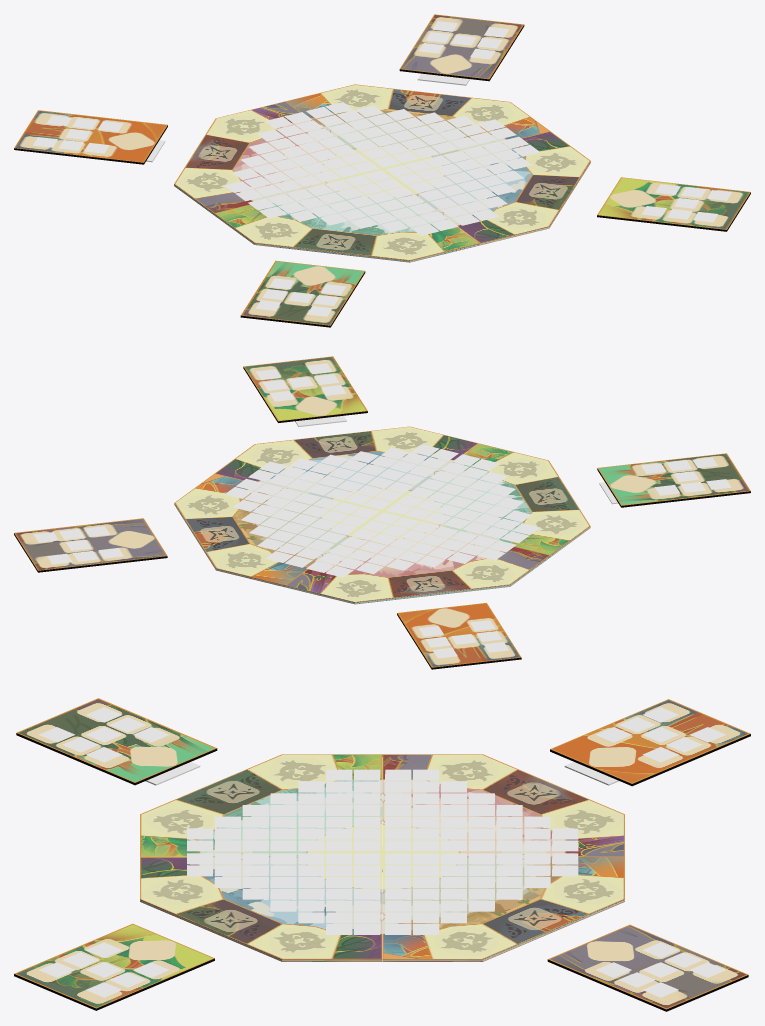
File: game.gltf
The picture shows the model from 3 angles, top to bottom: view 1: azimuth 30°, elevation 25°; view 2: azimuth 150°, elevation 25°; view 3: azimuth 270°, elevation 25°; orthographic projection. The views are drawn at different scales.
Parts seen in each view (by area): view 1: biome_slice_12, biome_slice_4, biome_slice_2, biome_slice_3, Sigil_slot_3, Sigil_slot_1, Sigil_slot_2, Sigil_slot_4; view 2: biome_slice_2, biome_slice_3, biome_slice_12, biome_slice_4, Sigil_slot_4, Sigil_slot_2, Sigil_slot_1, Sigil_slot_3; view 3: biome_slice_4, biome_slice_3, biome_slice_12, biome_slice_2, Sigil_slot_2, Sigil_slot_1, Sigil_slot_4, Sigil_slot_3.
Boxes of the visible parts, x1,y1,x2,y2 form: biome_slice_12: [214, 176, 479, 262]; biome_slice_4: [384, 131, 590, 245]; biome_slice_2: [174, 101, 379, 214]; biome_slice_3: [286, 84, 550, 171]; Sigil_slot_3: [14, 110, 167, 164]; Sigil_slot_1: [597, 177, 750, 231]; Sigil_slot_2: [399, 14, 524, 81]; Sigil_slot_4: [240, 260, 365, 327]; biome_slice_2: [285, 518, 550, 604]; biome_slice_3: [174, 473, 380, 587]; biome_slice_12: [385, 443, 590, 557]; biome_slice_4: [215, 426, 478, 513]; Sigil_slot_4: [597, 453, 750, 507]; Sigil_slot_2: [14, 518, 167, 572]; Sigil_slot_1: [243, 356, 367, 422]; Sigil_slot_3: [397, 603, 521, 669]; biome_slice_4: [140, 856, 382, 961]; biome_slice_3: [382, 856, 624, 961]; biome_slice_12: [140, 754, 382, 856]; biome_slice_2: [382, 754, 624, 856]; Sigil_slot_2: [547, 924, 748, 1011]; Sigil_slot_1: [14, 923, 214, 1010]; Sigil_slot_4: [16, 698, 217, 785]; Sigil_slot_3: [550, 699, 750, 786].
Size of what is drawn, in the model's own units: 15.89 by 0.2464 by 15.89.
176 materials, 8 textured.
